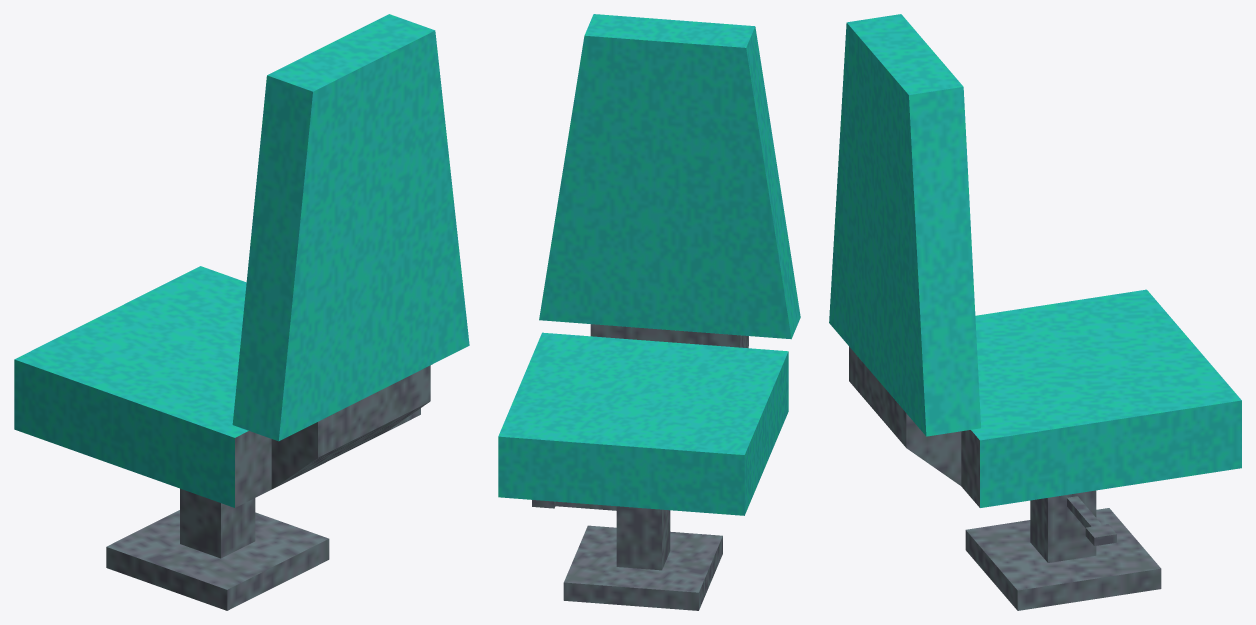
File: BLOCKYGON_OFFICE CHAIR.fbx
3 views of the same model, side by side, from view 1: azimuth 30°, elevation 25°; view 2: azimuth 150°, elevation 25°; view 3: azimuth 270°, elevation 25° (orthographic). The views are drawn at different scales.
Parts seen in each view (by area): view 1: BLOCKYGON_OFFICE_CHAIR; view 2: BLOCKYGON_OFFICE_CHAIR; view 3: BLOCKYGON_OFFICE_CHAIR.
Boxes of the visible parts, x1,y1,x2,y2 form: BLOCKYGON_OFFICE_CHAIR: [14, 14, 469, 610]; BLOCKYGON_OFFICE_CHAIR: [498, 14, 800, 610]; BLOCKYGON_OFFICE_CHAIR: [829, 14, 1241, 610].
Bounding box in the file's own units: 88 × 138 × 95.53.
2 materials, 2 textured.
